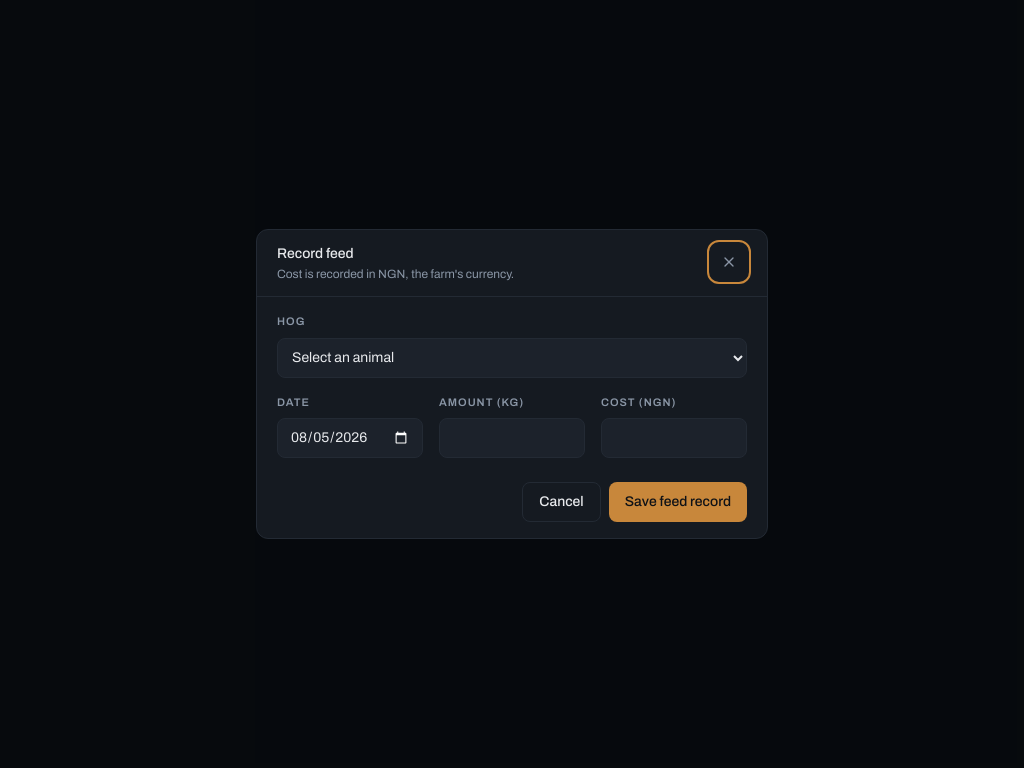
Scenario: FeedRecordForm › refuses to submit an empty form
Click the button "Save feed record" at (678, 502), box [609, 482, 747, 522]
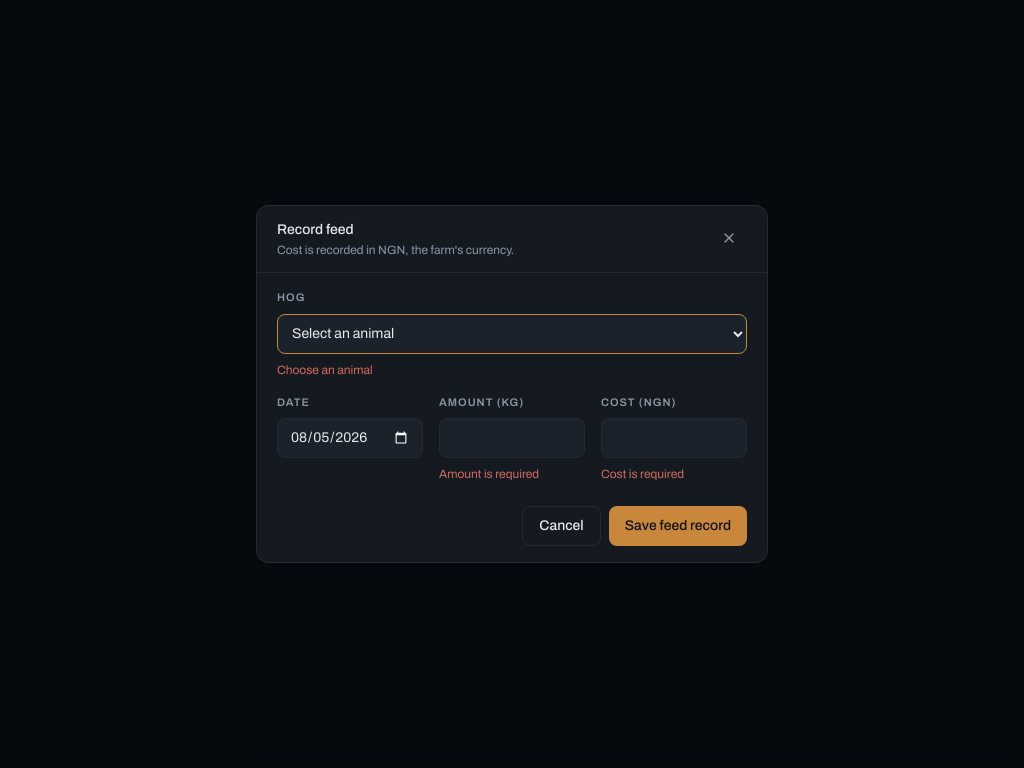
Expected: the text "Choose an animal" is shown, [277, 362, 373, 376]
